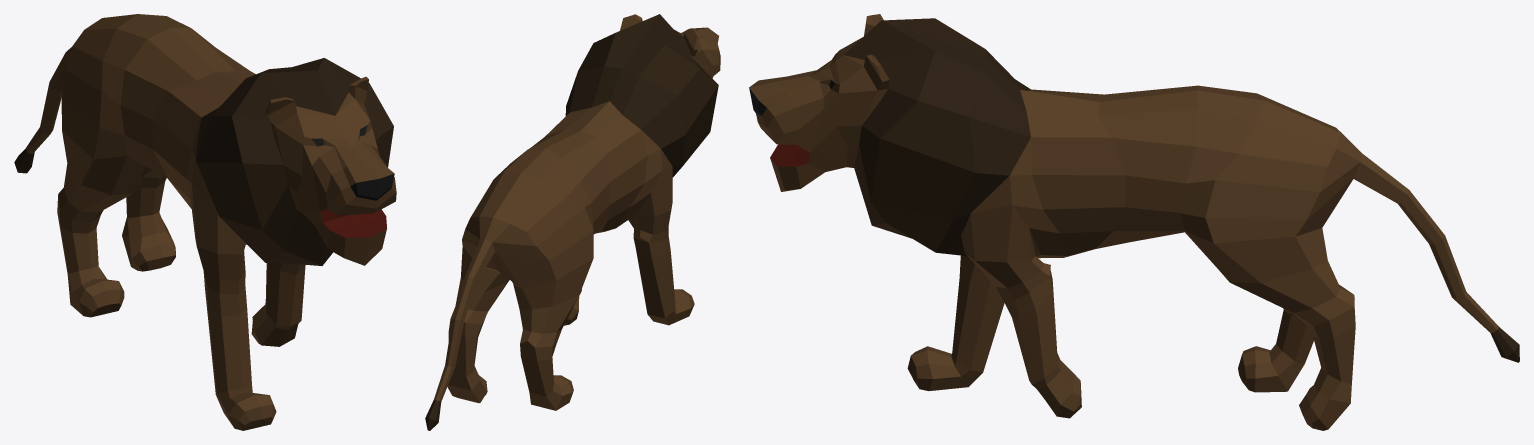
Rendered from asset.glb.
3 views of the same model, side by side, from view 1: azimuth 30°, elevation 25°; view 2: azimuth 150°, elevation 25°; view 3: azimuth 270°, elevation 25° (orthographic). The views are drawn at different scales.
Visible parts, largest first — view 1: Cube; view 2: Cube; view 3: Cube.
Boxes of the visible parts, <box> form: Cube: <box>14,14,396,430</box>; Cube: <box>425,14,720,430</box>; Cube: <box>749,14,1519,430</box>.
Size of the model in its own units: 0.3586 by 0.8013 by 1.46.
